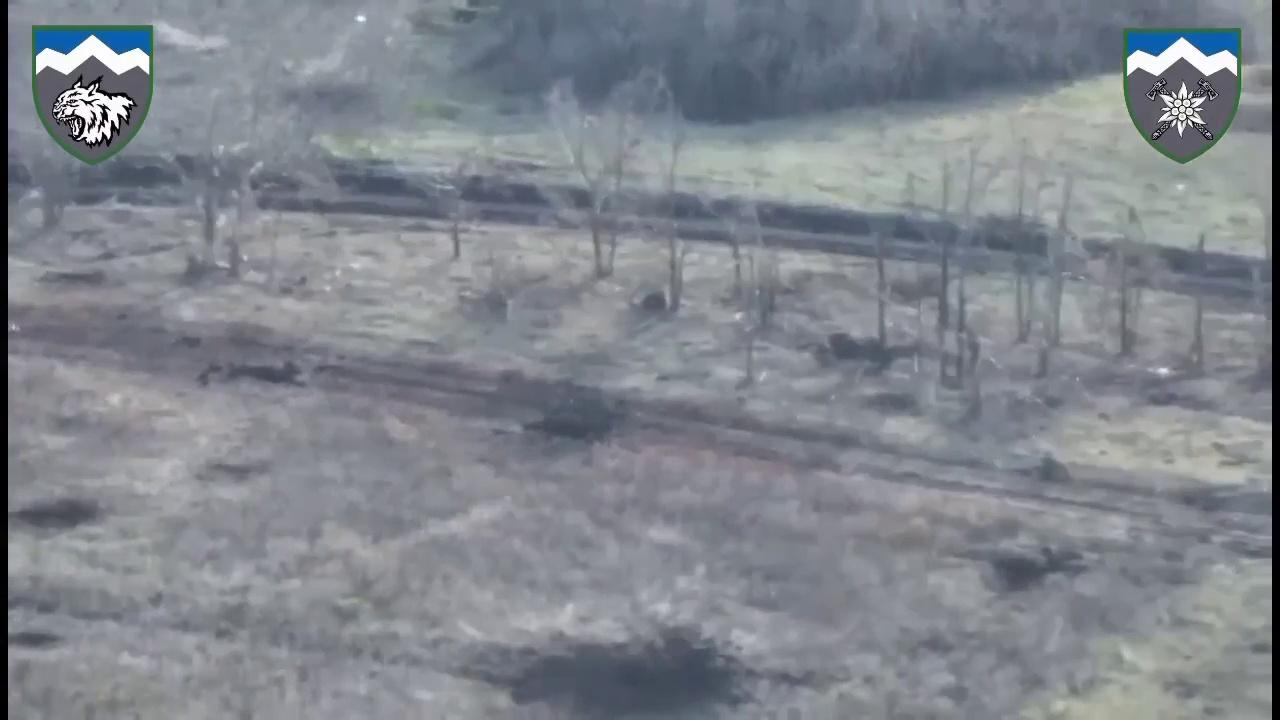person: (198, 360, 307, 391), (1011, 452, 1080, 487), (524, 416, 618, 441)
